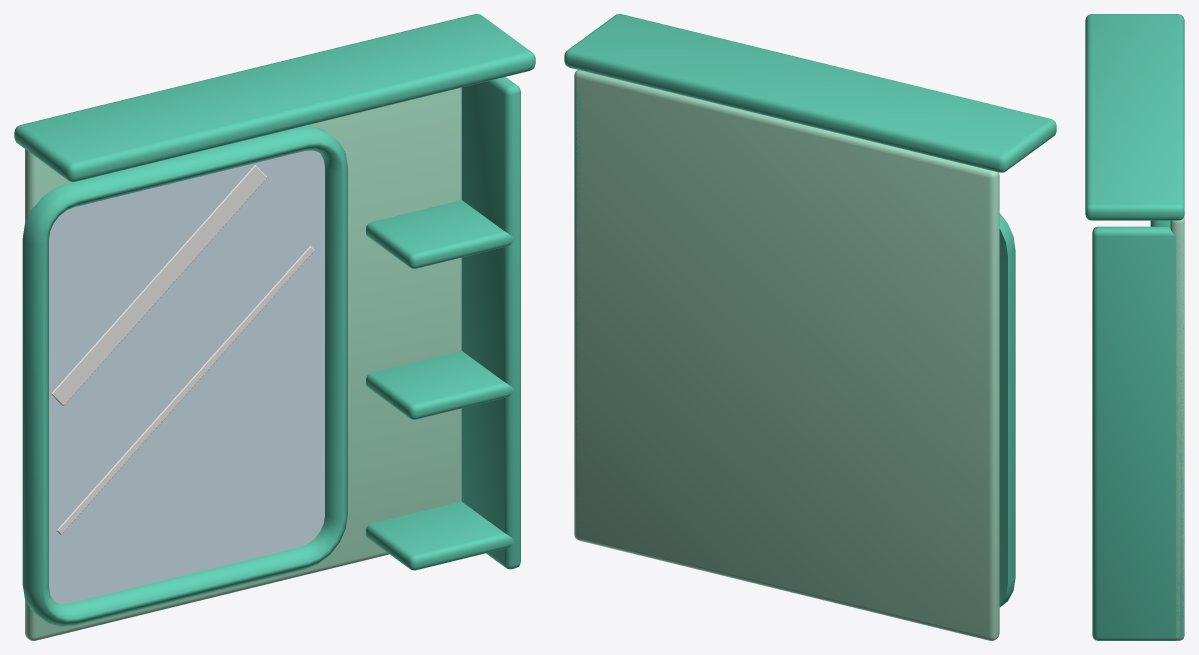
The model's file is espelho_prateleiras_menta.glb.
3 views of the same model, side by side, from view 1: azimuth 30°, elevation 25°; view 2: azimuth 150°, elevation 25°; view 3: azimuth 270°, elevation 25° (orthographic). The views are drawn at different scales.
Visible parts, largest first — view 1: espelho_prateleiras_menta; view 2: espelho_prateleiras_menta; view 3: espelho_prateleiras_menta.
Part boxes in pixels (x1,y1,x2,y2): espelho_prateleiras_menta: [14, 14, 535, 640]; espelho_prateleiras_menta: [564, 14, 1056, 640]; espelho_prateleiras_menta: [1085, 14, 1184, 640].
Bounding box in the file's own units: 0.65 × 0.685 × 0.14.
Materials: 2 (1 with a texture image).
